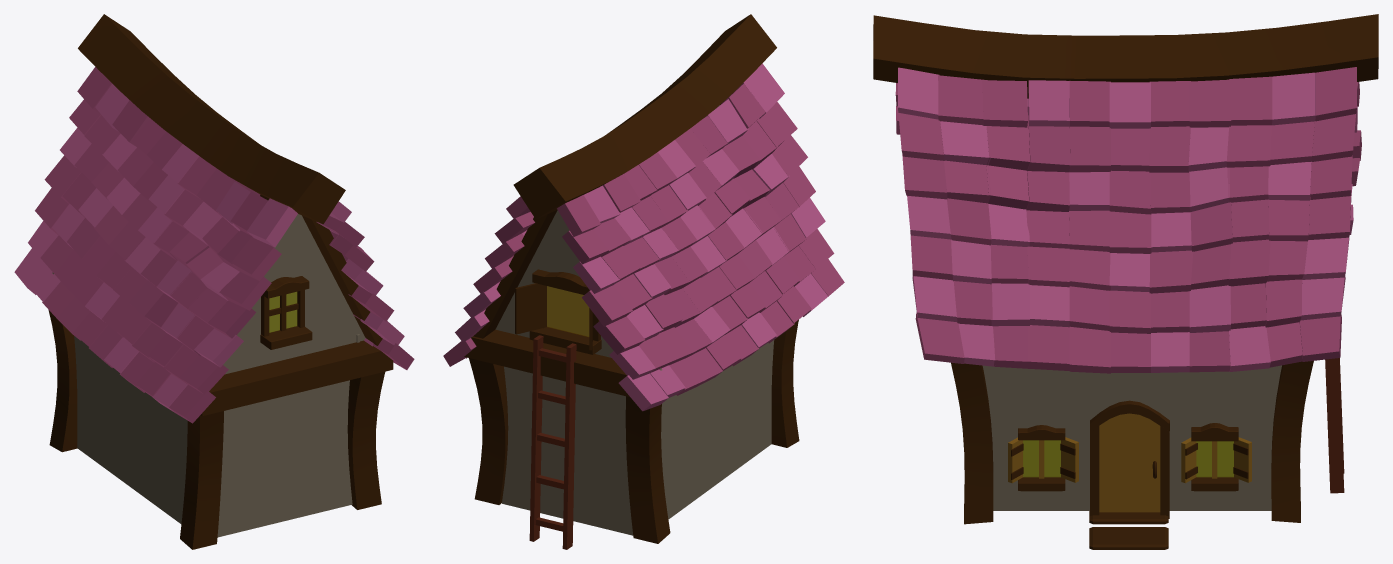
File: LowPolyHouse.fbx
The picture shows the model from 3 angles, left to right: view 1: azimuth 30°, elevation 25°; view 2: azimuth 150°, elevation 25°; view 3: azimuth 270°, elevation 25°; orthographic projection. The views are drawn at different scales.
Parts seen in each view (by area): view 1: pCube122, pCube24, pCube7, pCube123, pCube124, pCube3, pCube1, pCube4, pCube126, polySurface301, polySurface290, polySurface279 (+83 smaller); view 2: pCube127, pCube24, pCube7, pCube4, pCube128, pCube129, pCube2, pCube3, pCube131, pCube134, pCube133, pCube132 (+85 smaller); view 3: pCube24, pCube5, Door1, pCube1, pCube2, polySurface377, polySurface369, polySurface370, polySurface376, polySurface378, polySurface375, pCube133 (+82 smaller).
Boxes of the visible parts, x1,y1,x2,y2 form: pCube122: (217,380,352,537); pCube24: (78,14,345,224); pCube7: (74,336,187,523); pCube123: (223,214,365,374); pCube124: (201,340,393,416); pCube3: (180,411,223,549); pCube1: (347,371,385,509); pCube4: (48,310,77,452); pCube126: (302,215,382,345); polySurface301: (246,198,297,247); polySurface290: (231,236,281,281); polySurface279: (219,271,271,310); pCube127: (502,366,633,535); pCube24: (513,14,776,218); pCube7: (661,340,774,519); pCube4: (625,396,670,543); pCube128: (464,329,629,396); pCube129: (495,210,662,370); pCube2: (469,358,508,504); pCube3: (771,320,799,447); pCube131: (473,210,557,338); pCube134: (562,343,576,549); pCube133: (529,335,543,541); pCube132: (547,286,589,336); pCube24: (873,14,1378,98); pCube5: (982,365,1281,510); Door1: (1099,413,1160,512); pCube1: (951,362,993,524); pCube2: (1271,361,1313,522); polySurface377: (1272,72,1315,125); polySurface369: (938,75,987,125); polySurface370: (982,80,1027,127); polySurface376: (1229,76,1272,125); polySurface378: (1315,67,1356,121); polySurface375: (1189,79,1230,127); pCube133: (1325,358,1344,493).
Size of the model in its own units: 25.01 by 36.75 by 36.18.
